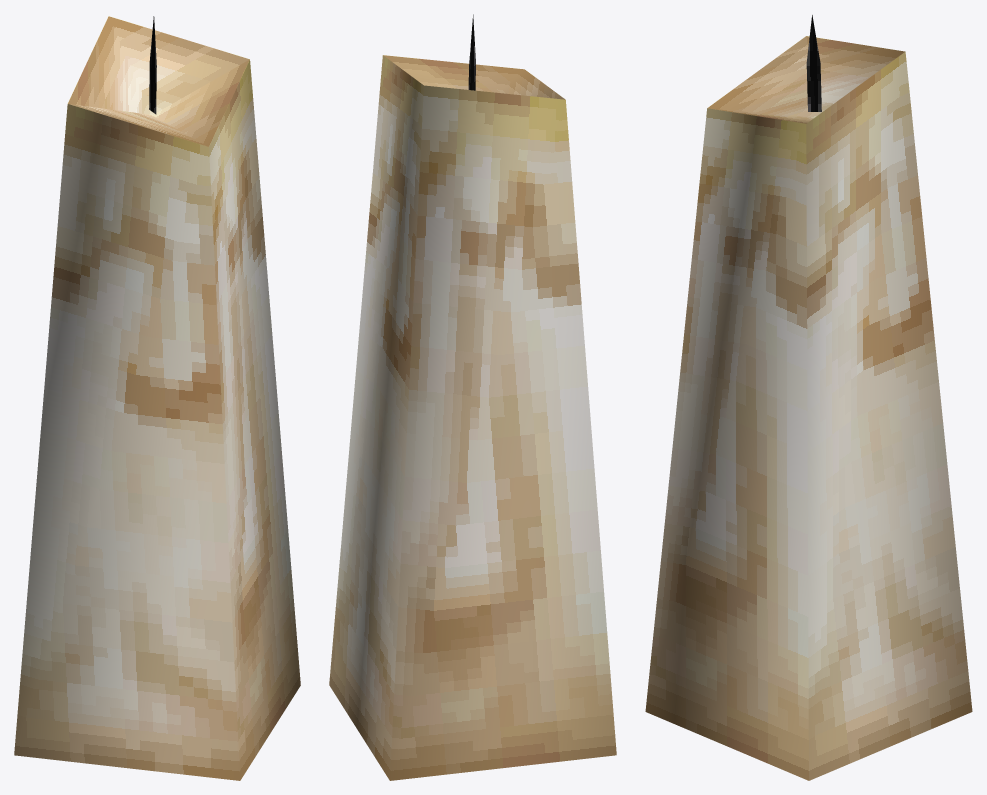
Rendered from candleoff01.obj.
3 renders of one model, left to right at view 1: azimuth 30°, elevation 25°; view 2: azimuth 150°, elevation 25°; view 3: azimuth 270°, elevation 25°, orthographic.
Visible parts, largest first — view 1: Geoset0, Geoset1; view 2: Geoset0; view 3: Geoset0, Geoset1.
Part boxes in pixels (<box>): Geoset0: <box>14,16,300,780</box>; Geoset1: <box>149,16,156,114</box>; Geoset0: <box>329,55,616,780</box>; Geoset0: <box>645,36,972,780</box>; Geoset1: <box>806,15,821,111</box>.
Size of the model in its own units: 0.2399 by 0.5641 by 0.2399.
2 materials, 2 textured.
